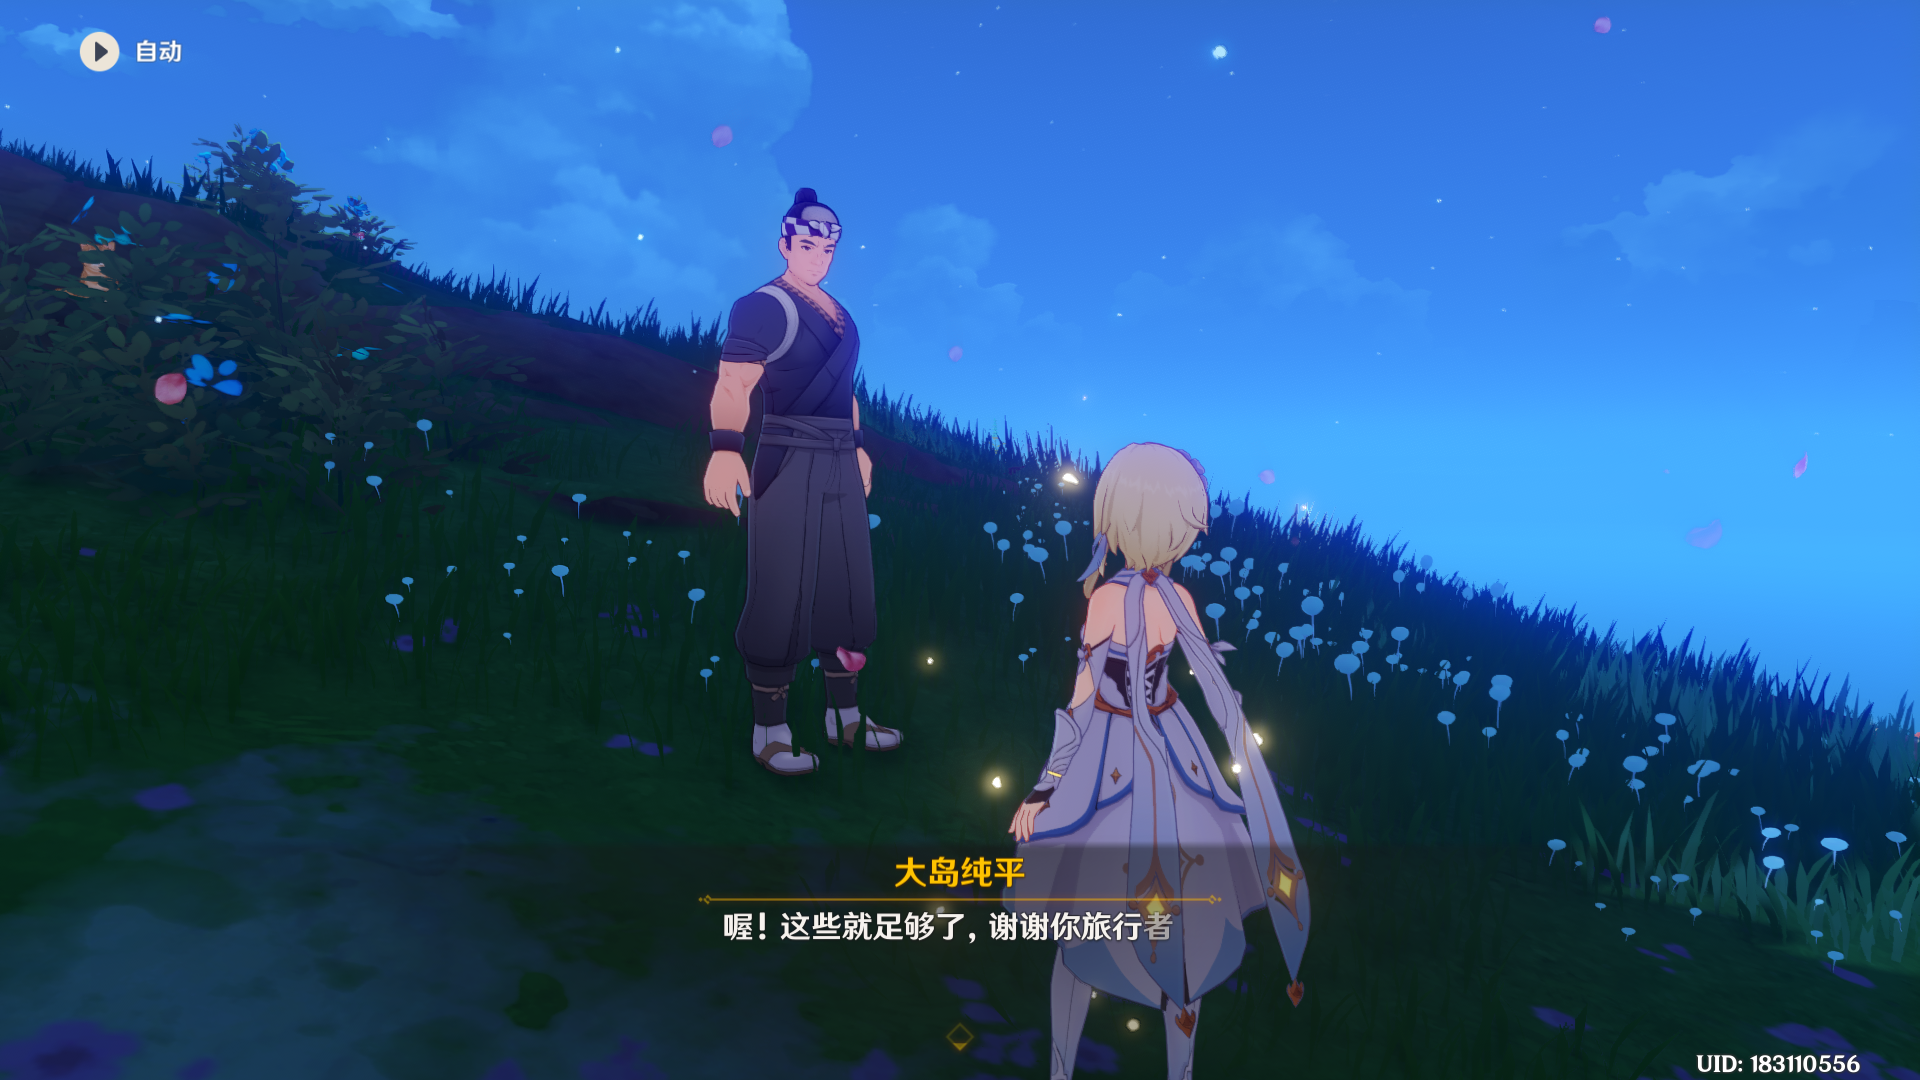character: (955, 415, 1315, 1080)
